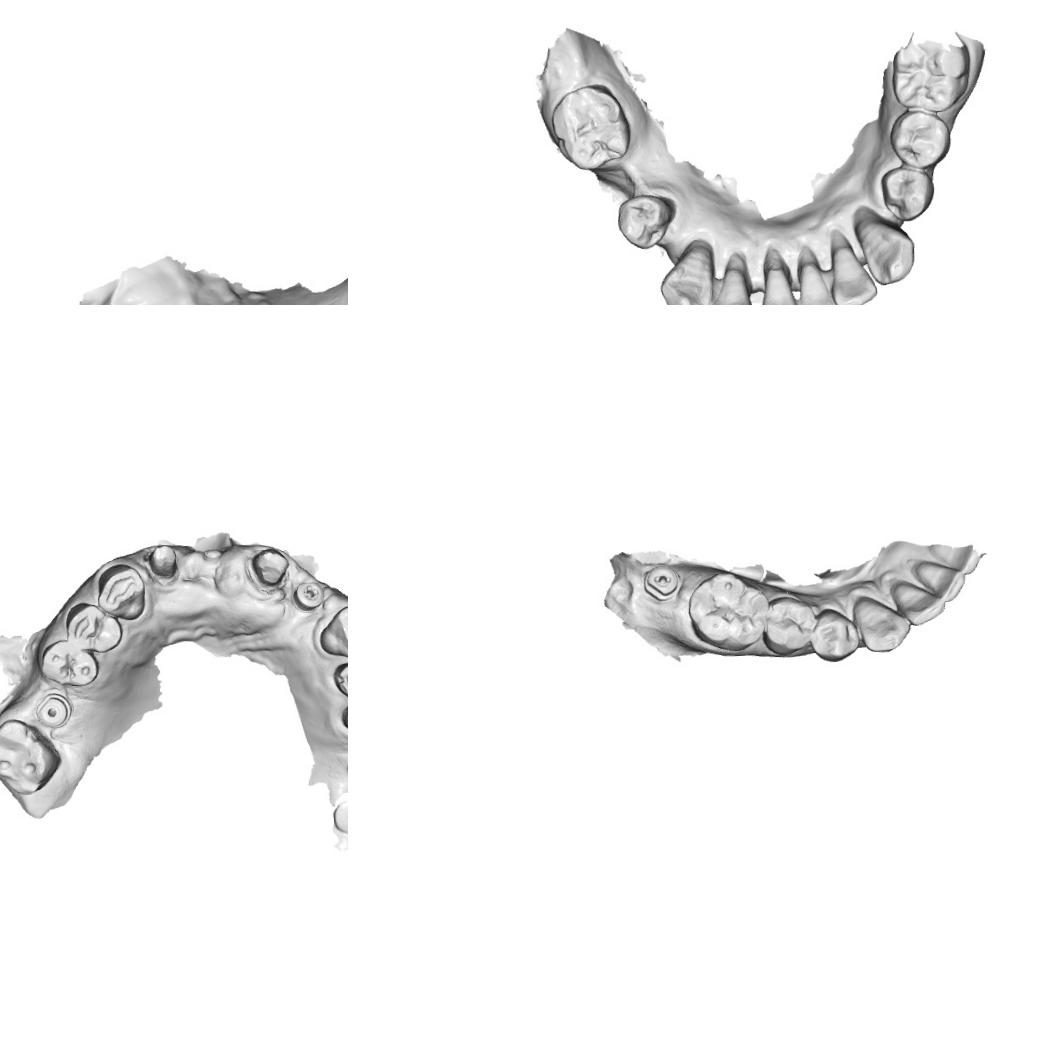canine: (857, 212, 916, 286), (655, 241, 717, 305), (850, 591, 914, 653), (94, 559, 147, 622), (316, 602, 348, 660)
crown: (246, 542, 292, 589), (144, 541, 180, 584)
implant: (34, 690, 71, 729), (328, 795, 348, 835)
implant_minus: (641, 562, 683, 602)
implant_plus: (290, 577, 327, 612)
incisor: (827, 239, 880, 305), (890, 574, 948, 628), (911, 557, 967, 604), (703, 264, 755, 305), (754, 260, 800, 305), (794, 258, 838, 305)
molar: (548, 80, 633, 172), (684, 567, 772, 654), (888, 40, 972, 112), (0, 714, 64, 798)
premolar: (886, 106, 953, 168), (758, 592, 820, 656), (613, 191, 678, 252), (877, 163, 939, 222), (62, 599, 124, 656), (806, 604, 862, 664), (36, 636, 99, 688), (329, 655, 348, 707)
